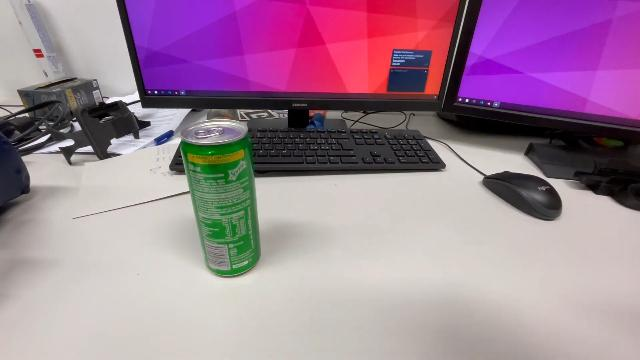Sprite: (178, 117, 264, 282)
